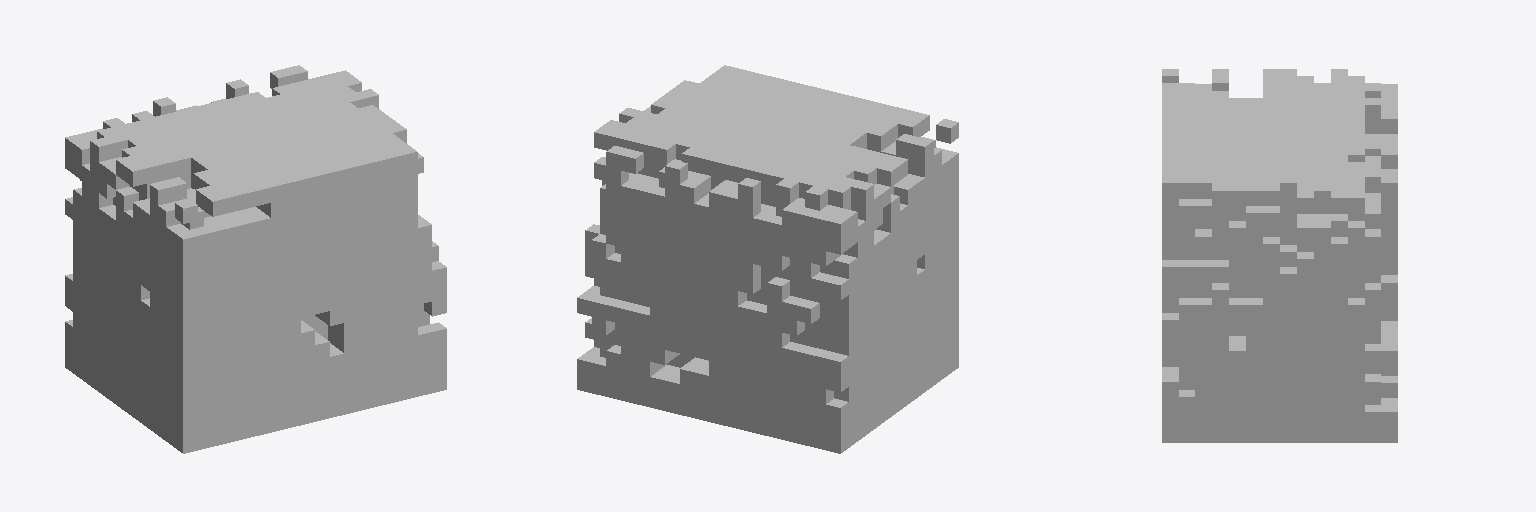
File: House1-2.obj
3 renders of one model, left to right at view 1: azimuth 30°, elevation 25°; view 2: azimuth 150°, elevation 25°; view 3: azimuth 270°, elevation 25°, orthographic.
Visible parts, largest first — view 1: object 1; view 2: object 1; view 3: object 1.
Boxes of the visible parts, <box> form: object 1: <box>65,65,446,453</box>; object 1: <box>577,65,958,453</box>; object 1: <box>1162,69,1397,442</box>.
Size of the model in its own units: 1.8 by 1.6 by 1.4.